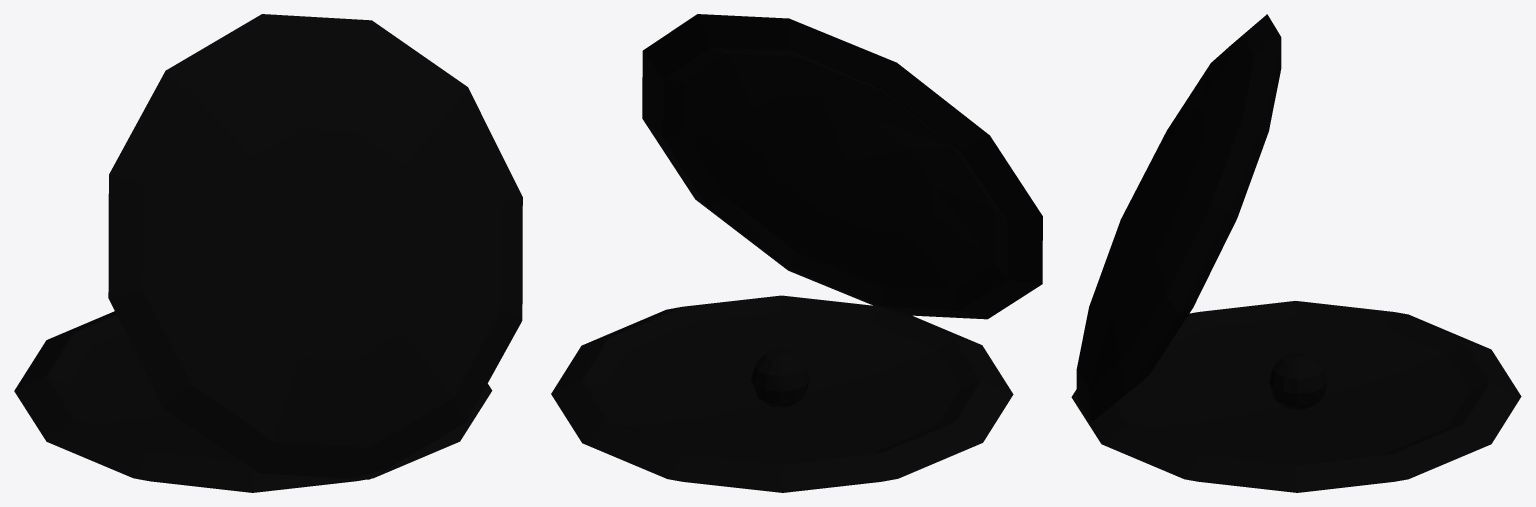
File: Clam.glb
3 renders of one model, left to right at view 1: azimuth 30°, elevation 25°; view 2: azimuth 150°, elevation 25°; view 3: azimuth 270°, elevation 25°, orthographic. The views are drawn at different scales.
Visible parts, largest first — view 1: Clam; view 2: Clam; view 3: Clam.
Part boxes in pixels (left/top/right/bottom): Clam: left=14, top=14, right=522, bottom=492; Clam: left=551, top=14, right=1042, bottom=492; Clam: left=1071, top=14, right=1521, bottom=492.
Bounding box in the file's own units: 272 × 258 × 272.
Materials: 1 (1 with a texture image).
